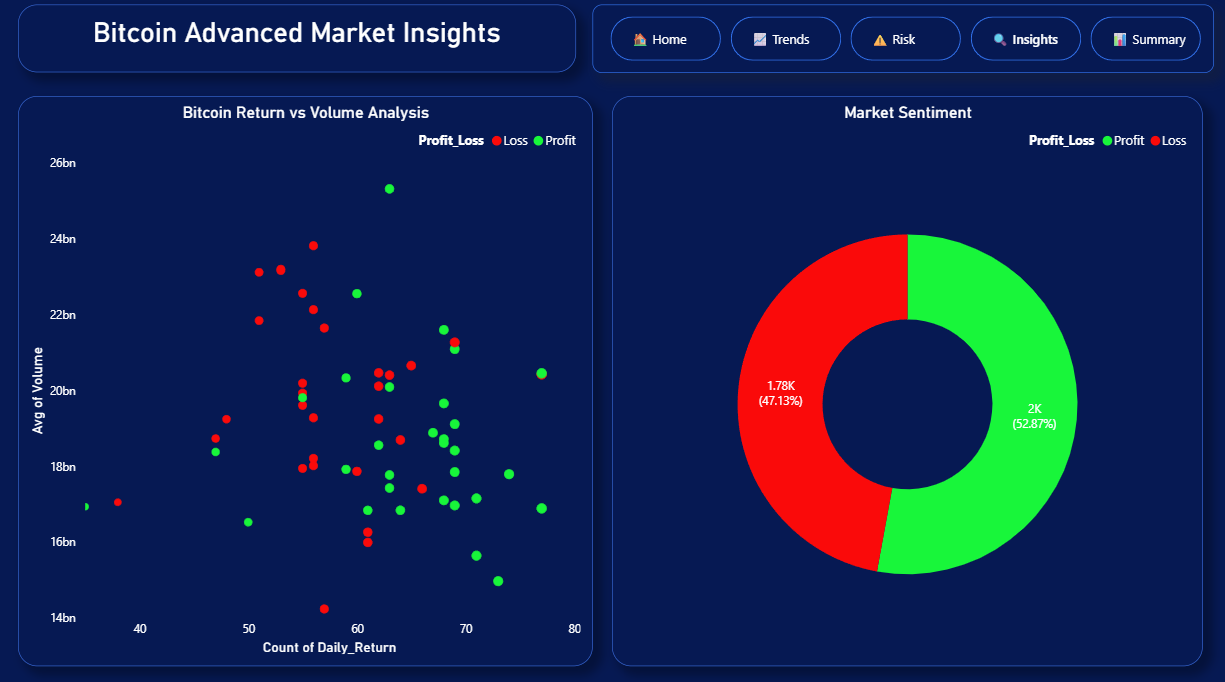

This screenshot's page, from the dashboard's own definition file:
{"tool":"powerbi","page":{"name":"🔍 Insights","canvas":[1280,720],"ordinal":3},"visuals":[{"type":"scatterChart","title":"Bitcoin Return vs Volume Analysis","fields":{"X":["CountNonNull(bitcoin_final.Daily_Return)"],"Y":["Avg(bitcoin_final.Volume)"],"Size":["CountNonNull(bitcoin_final.Close)"],"Series":["bitcoin_final.Profit_Loss"],"Category":["bitcoin_final.Date.Variation.Date Hierarchy.Day"]},"box":[21.5,106.2,598.5,593.8],"z":0},{"type":"donutChart","title":"Market Sentiment","fields":{"Category":["bitcoin_final.Profit_Loss"],"Y":["CountNonNull(bitcoin_final.Date)"]},"box":[640.6,106.2,615.6,593.8],"z":1000},{"type":"textbox","box":[21.5,10.8,581.5,70.8],"z":2000},{"type":"shape","box":[620.6,11.1,647.6,71.4],"z":3000},{"type":"pageNavigator","box":[639.7,23.8,617.5,46],"z":4000}]}

Visuals, with their boxes in screenshot pixels (x1, y1, x2, y2), scaled from the page's 1280x720 canvas onto the 1225x682 screenshot:
"Bitcoin Return vs Volume Analysis" scatterChart: left=21, top=101, right=593, bottom=663
"Market Sentiment" donutChart: left=613, top=101, right=1202, bottom=663
textbox: left=21, top=10, right=577, bottom=77
shape: left=594, top=11, right=1214, bottom=78
pageNavigator: left=612, top=23, right=1203, bottom=66
